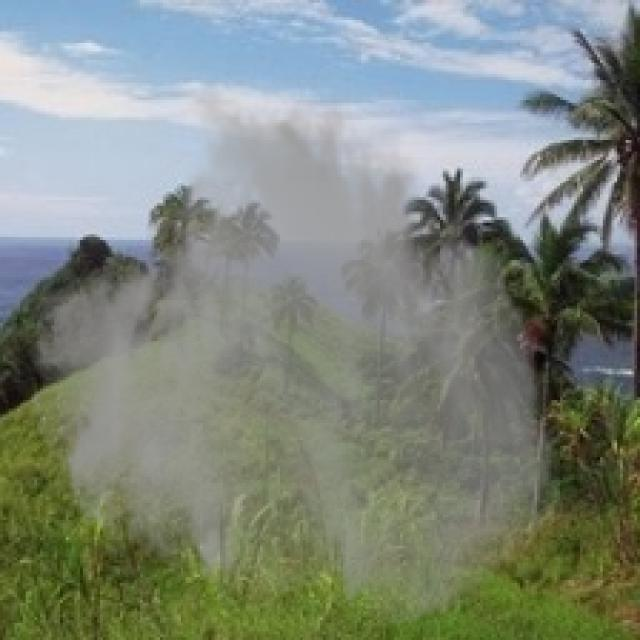Smoke: (26, 80, 566, 629)
